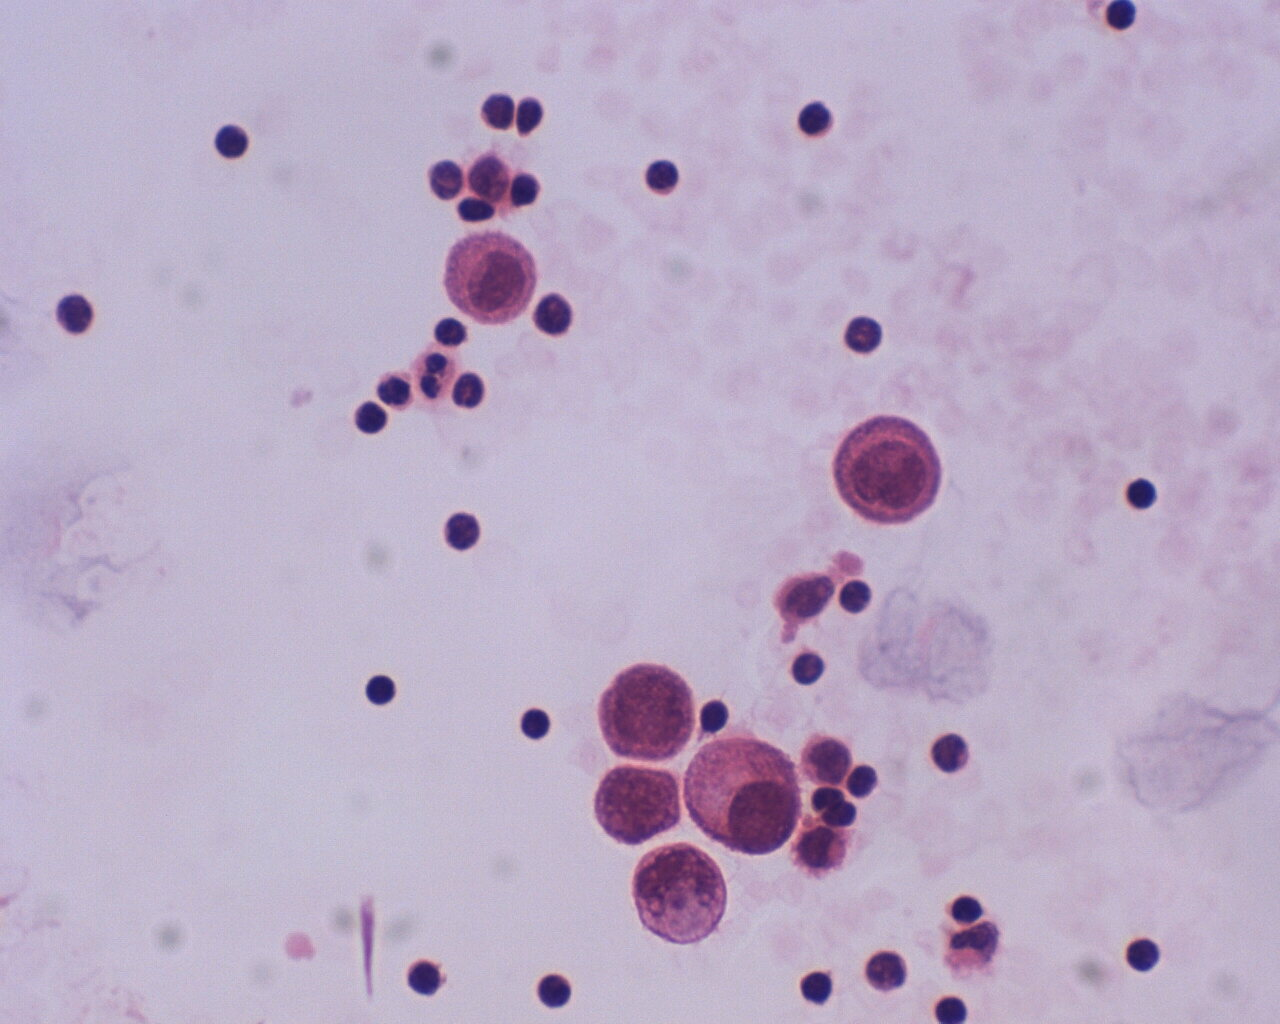ab: (833, 412, 942, 531), (441, 228, 541, 330), (635, 842, 734, 947), (599, 662, 697, 765), (590, 760, 688, 850), (795, 726, 855, 787)
lymph: (210, 114, 262, 166), (840, 307, 886, 362), (532, 965, 582, 1015), (443, 506, 489, 559), (923, 729, 972, 776), (639, 153, 689, 200), (1120, 933, 1169, 979), (1116, 473, 1167, 517), (795, 959, 841, 1007), (793, 92, 839, 139), (403, 959, 453, 1002), (359, 667, 402, 714), (511, 704, 560, 744), (350, 396, 393, 439), (942, 891, 990, 926)
meso: (685, 734, 804, 861)
